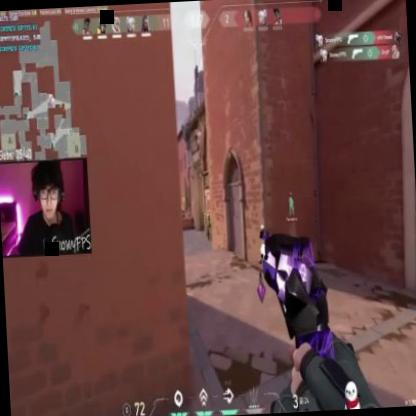enemy: (204, 209, 214, 240)
enemy_head: (207, 209, 210, 214)
